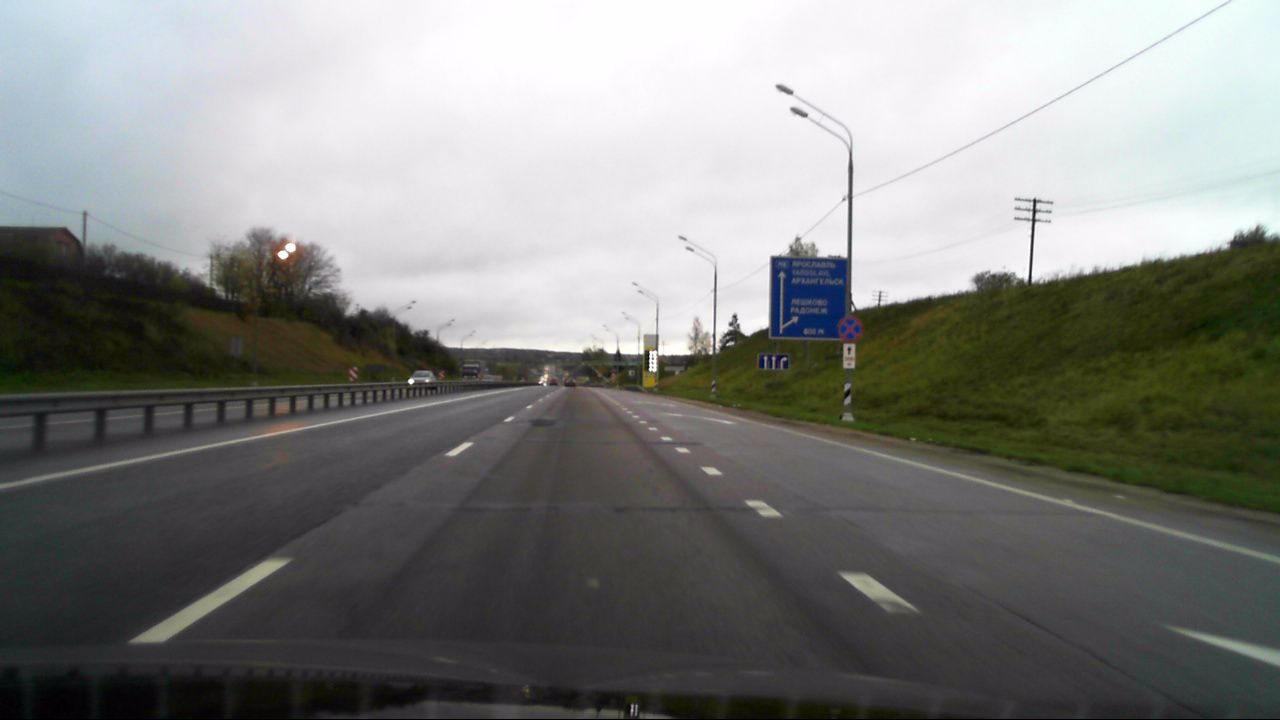No Parking: (837, 315, 862, 342)
